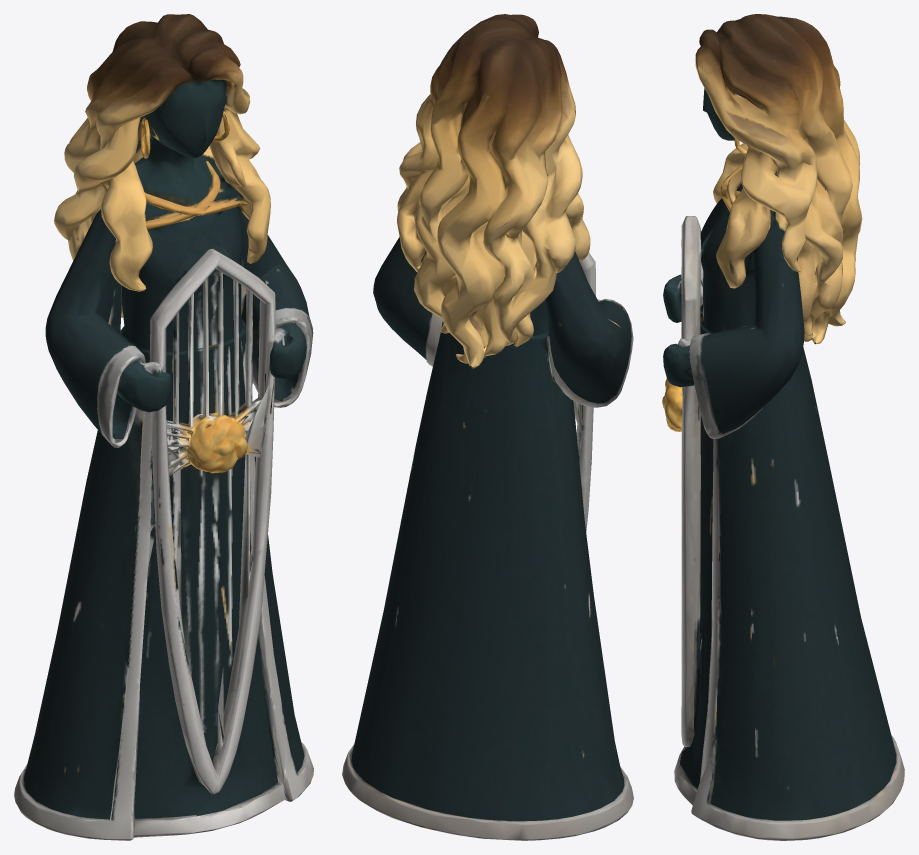
The model's file is lealtad.glb.
3 views of the same model, side by side, from view 1: azimuth 30°, elevation 25°; view 2: azimuth 150°, elevation 25°; view 3: azimuth 270°, elevation 25° (orthographic). The views are drawn at different scales.
Parts seen in each view (by area): view 1: Malla; view 2: Malla; view 3: Malla.
Part boxes in pixels (x1,y1,x2,y2): Malla: (14, 14, 313, 840); Malla: (342, 14, 633, 840); Malla: (662, 14, 904, 840).
Bounding box in the file's own units: 0.7717 × 2.1 × 0.6049.
Materials: 1 (1 with a texture image).
